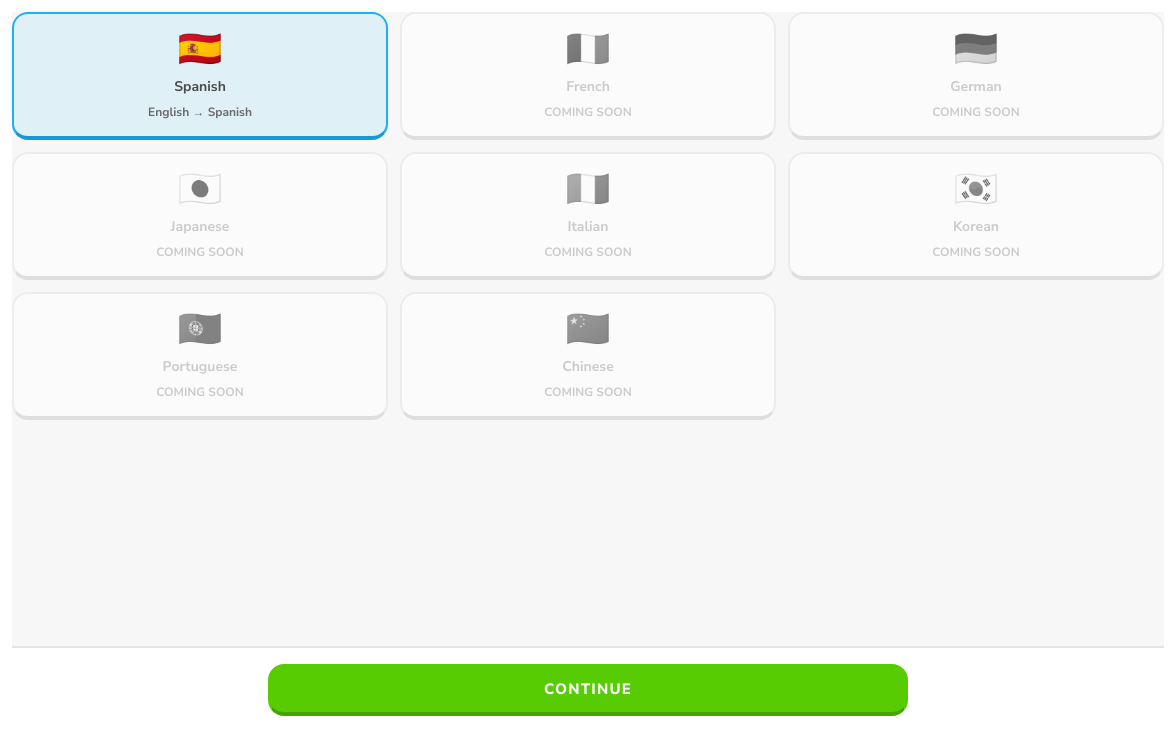
Test: CoursePicker › a failed request keeps the learner on the screen with a message
This screenshot has width=1176, height=732.
Click the button "Continue" at x=588, y=690, box x1=268 y1=664 x2=908 y2=716
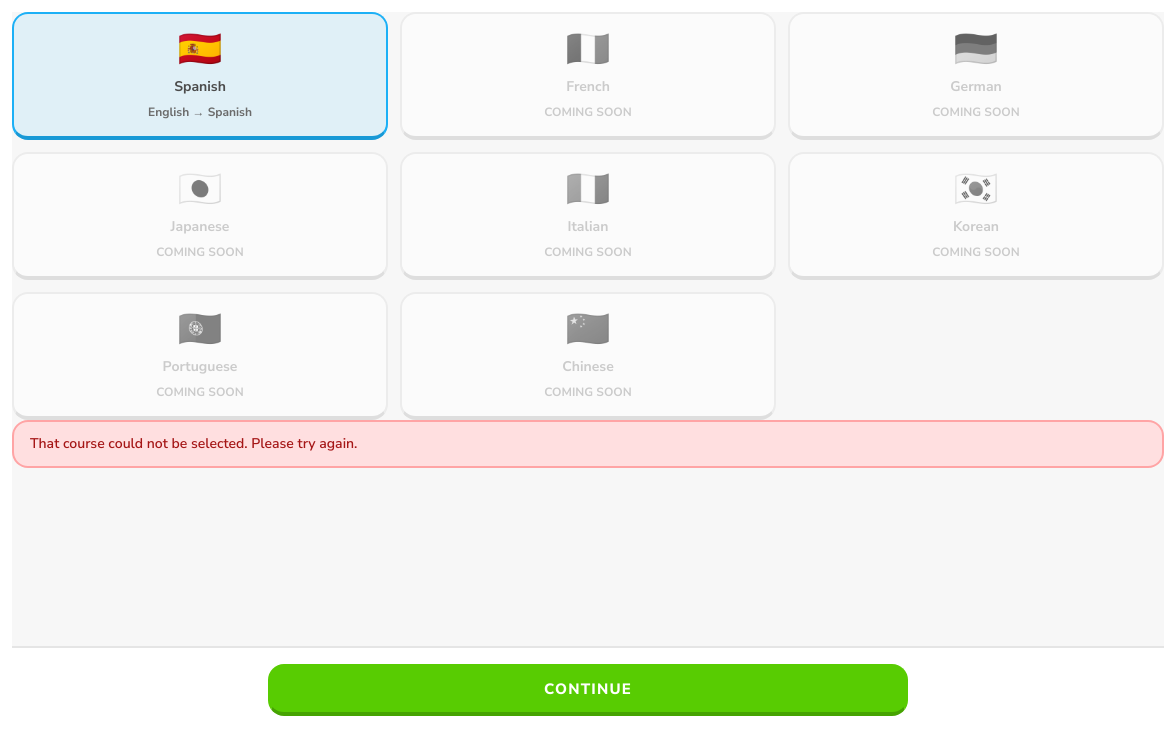
Check: the message "That course could not be selected. Please try again." is shown, box x1=12 y1=420 x2=1164 y2=468
